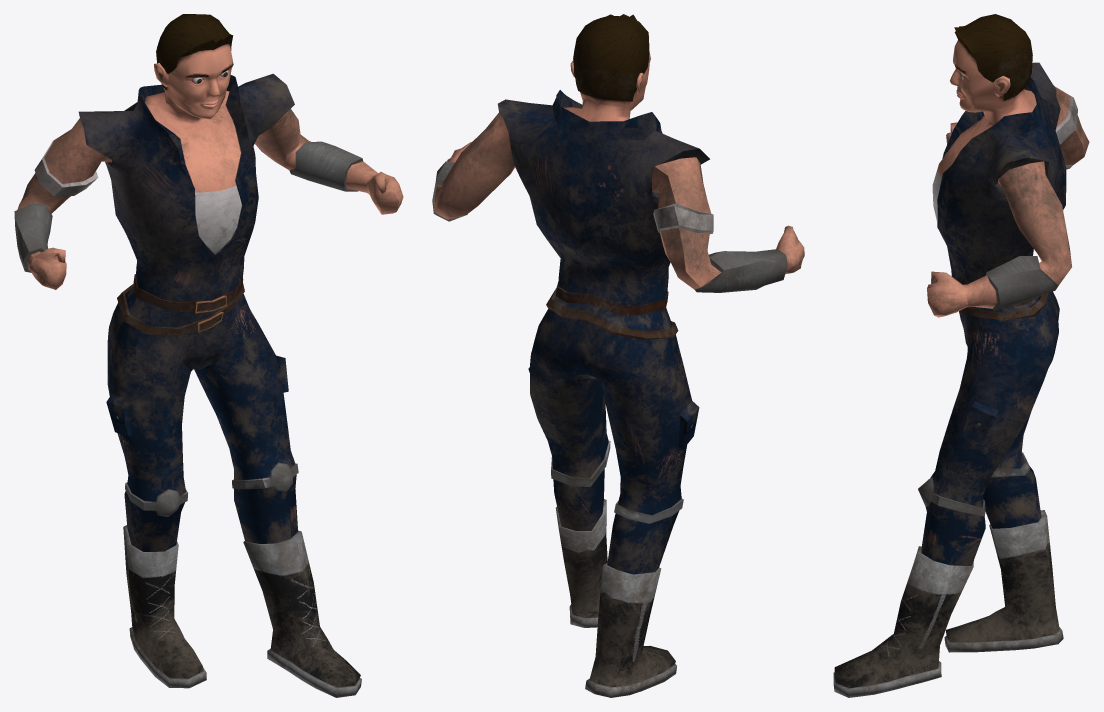
File: Anim_ataque_d3_jugador.0050.obj
The picture shows the model from 3 angles, left to right: view 1: azimuth 30°, elevation 25°; view 2: azimuth 150°, elevation 25°; view 3: azimuth 270°, elevation 25°; orthographic projection. The views are drawn at different scales.
Parts seen in each view (by area): view 1: polySurface1; view 2: polySurface1; view 3: polySurface1.
Part boxes in pixels (x1,y1,x2,y2): polySurface1: [14, 14, 403, 697]; polySurface1: [432, 14, 804, 697]; polySurface1: [833, 14, 1089, 697].
Size of the model in its own units: 5.51 by 9.64 by 3.49.
